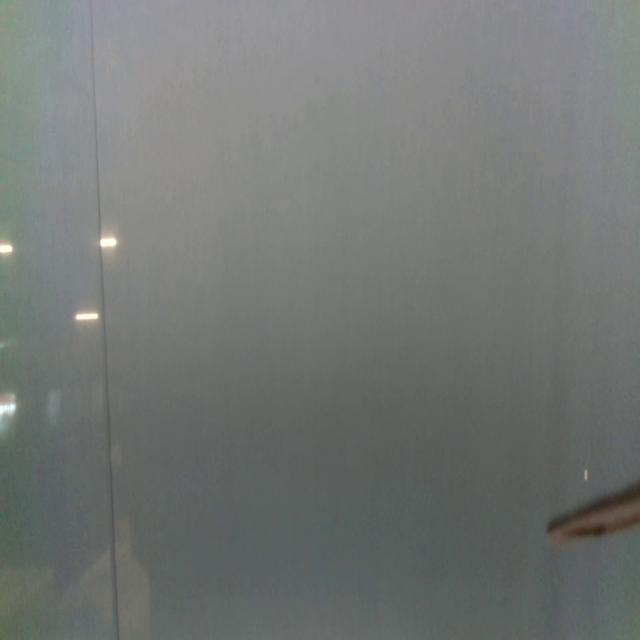crease: (90, 0, 121, 640)
hole: (584, 468, 589, 482)
